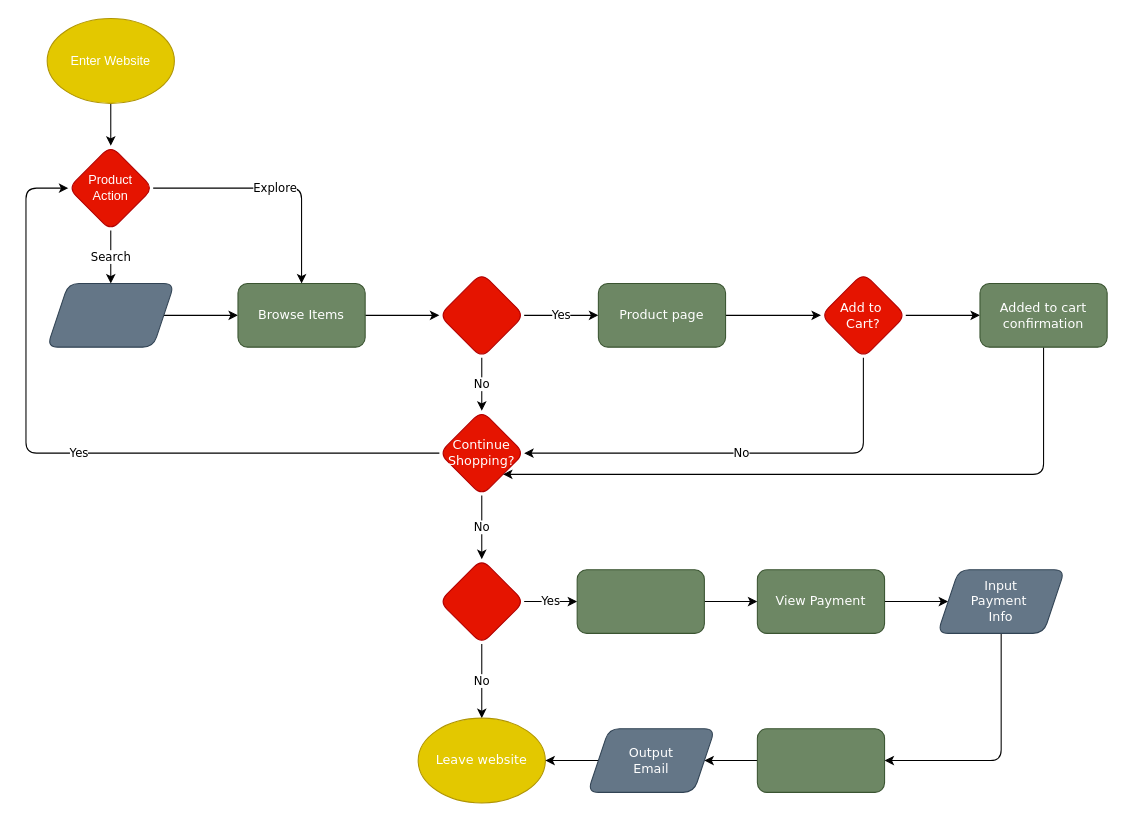
Image size: 1126x821. Some labels were removed from this diagram. Each missing label, with the centre of its shape:
"Checkout?" goes at (481,601).
"Input Search Item" goes at (110,314).
"Order Confirmation Page" goes at (820,760).
"View Cart" goes at (640,601).
"View Product?" goes at (481,315).
